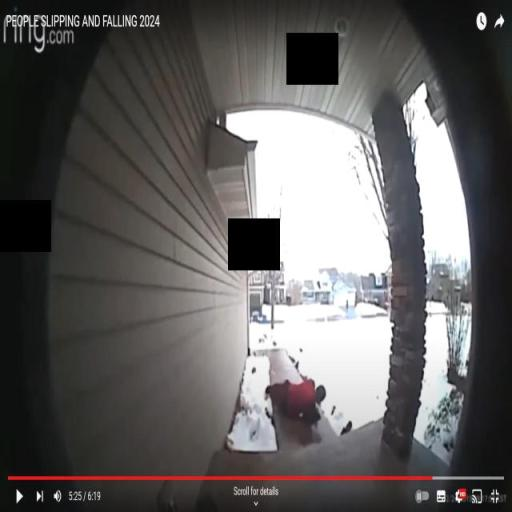Fall: (263, 377, 328, 425)
